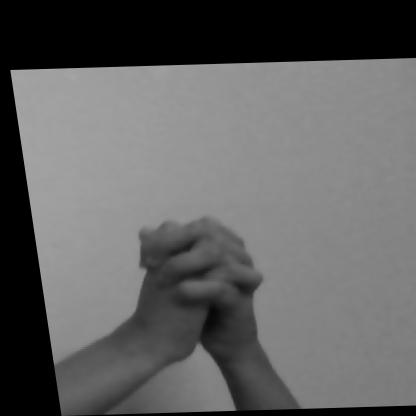prayer: (78, 171, 305, 413)
